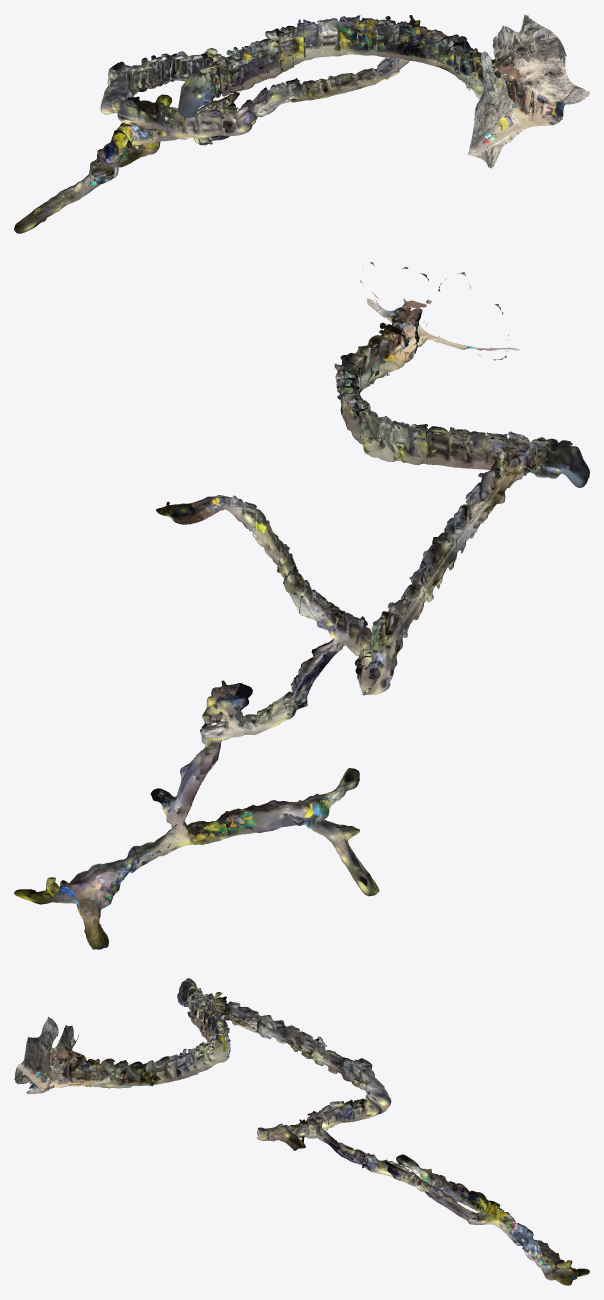
The model's file is mine-mobile.glb.
The picture shows the model from 3 angles, top to bottom: view 1: azimuth 30°, elevation 25°; view 2: azimuth 150°, elevation 25°; view 3: azimuth 270°, elevation 25°; orthographic projection. The views are drawn at different scales.
Size of the model in its own units: 22.25 by 25.01 by 46.96.
16 materials, 16 textured.
